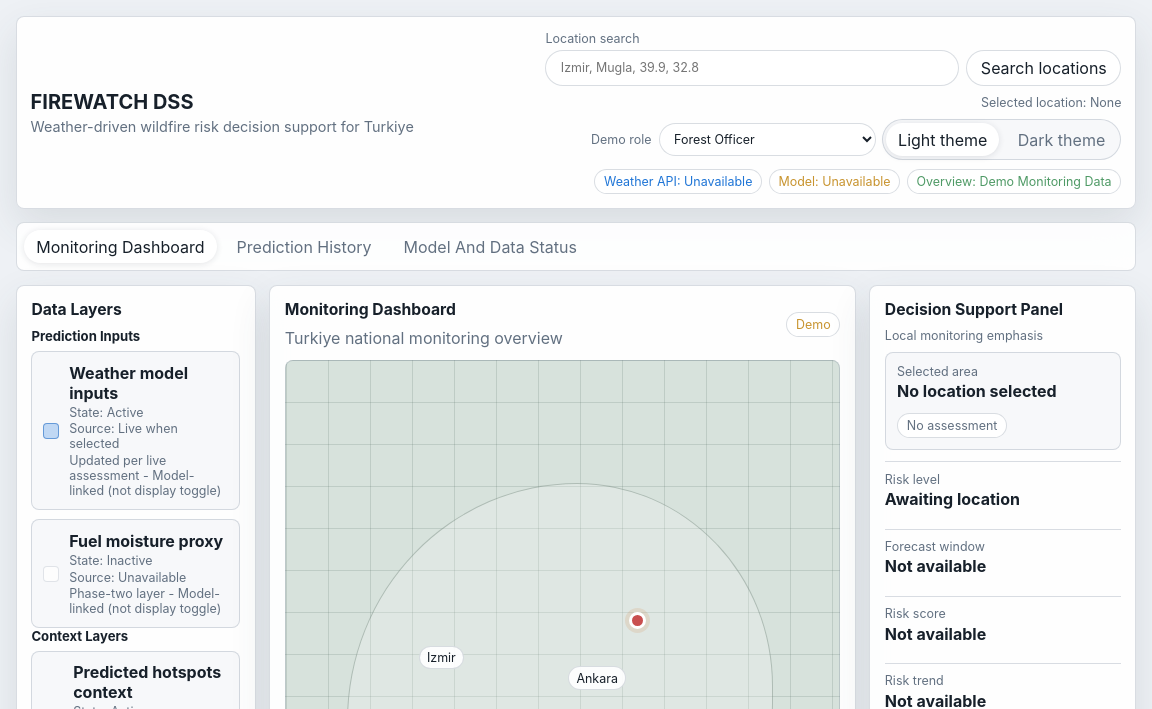
it: FIREWATCH dashboard shell › renders all returned forecast assessment windows in the timeline strip
Type "Izmir" into the search field labelled "Location search".
click(752, 68); type("Izmir")  # box [545,50,959,86]
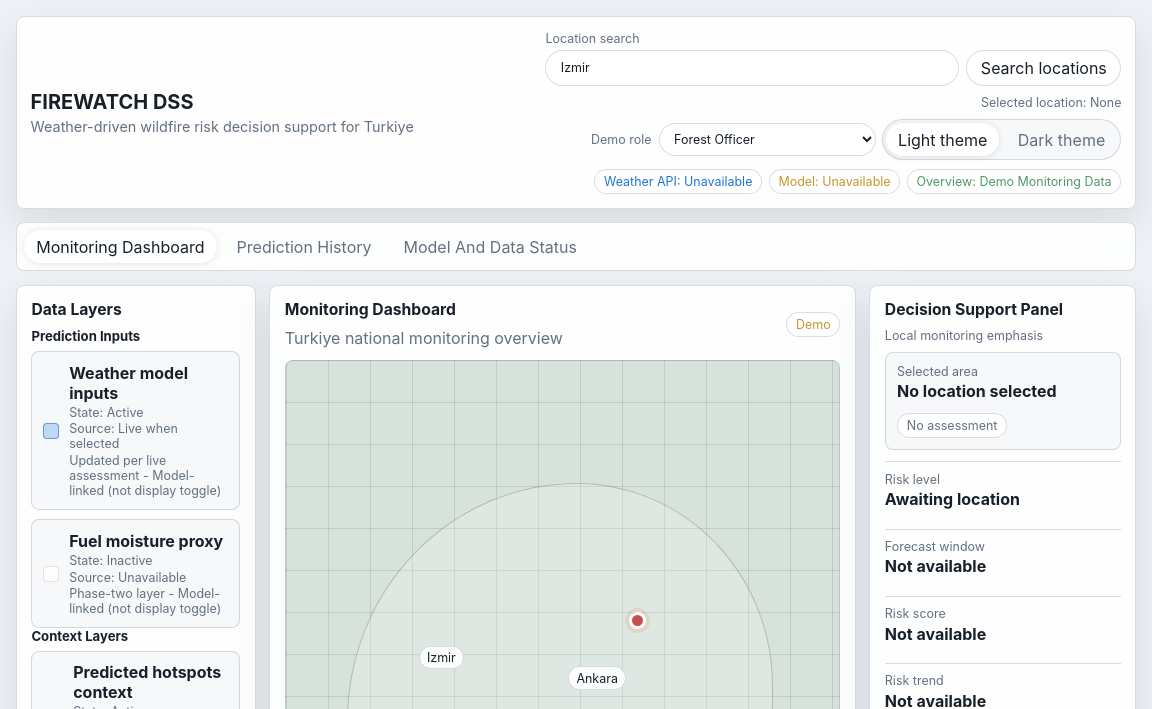
Click the button "Search locations".
click(1044, 68)  # box [966,50,1121,86]
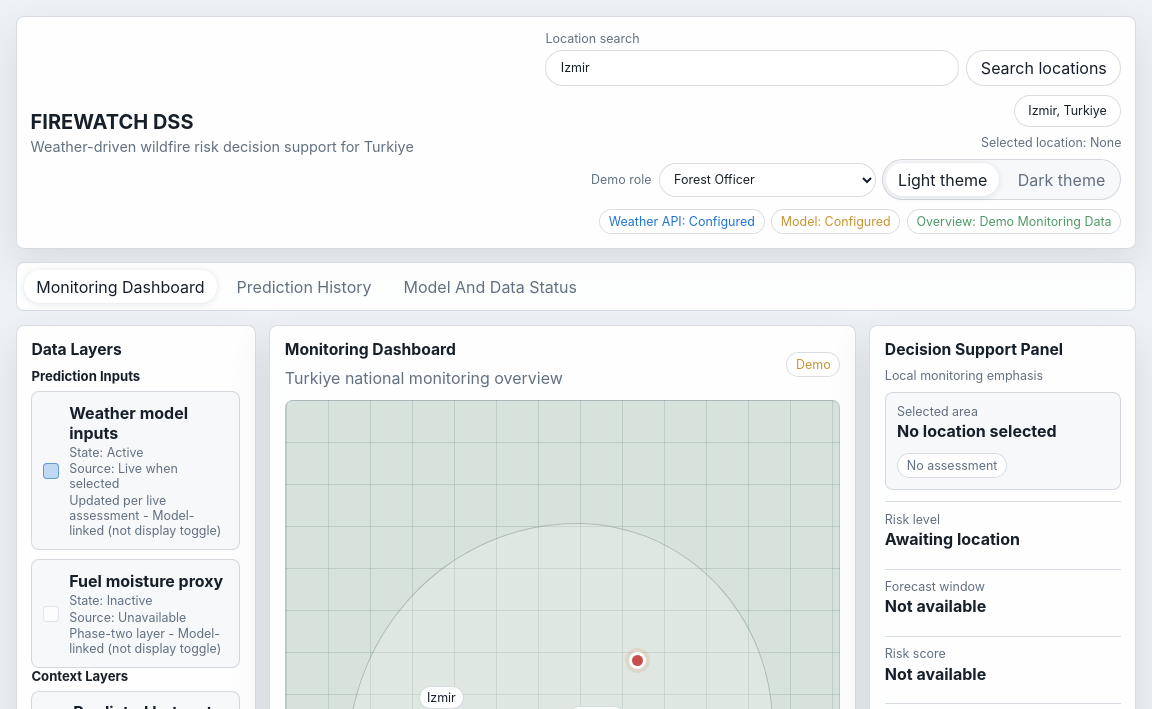
Click the button "Izmir, Turkiye".
click(1068, 111)  # box [1014,95,1121,127]
(page scrolled)
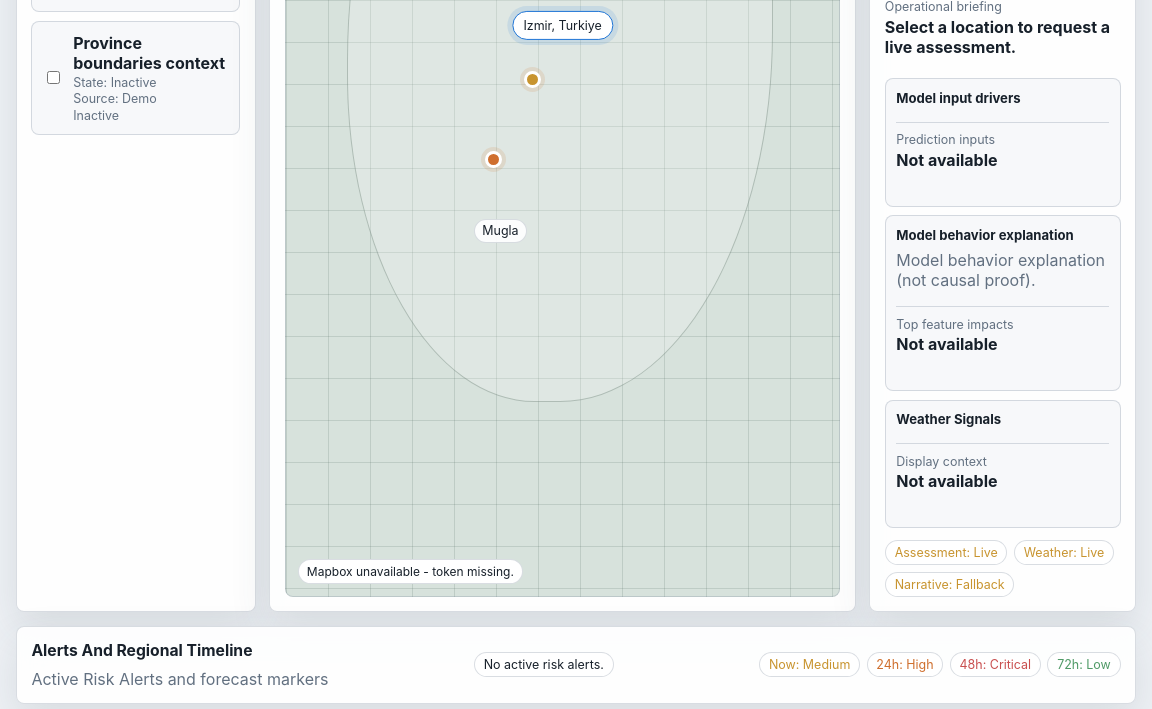
Result: the text "Now: Medium" is shown at [759,652,860,677]
Result: the text "24h: High" is shown at [866,652,943,677]
Result: the text "48h: Critical" is shown at [950,652,1041,677]
